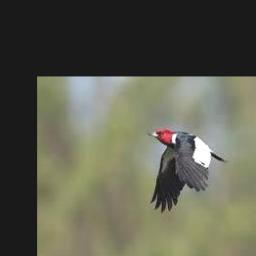Woodpecker: (148, 128, 229, 212)
